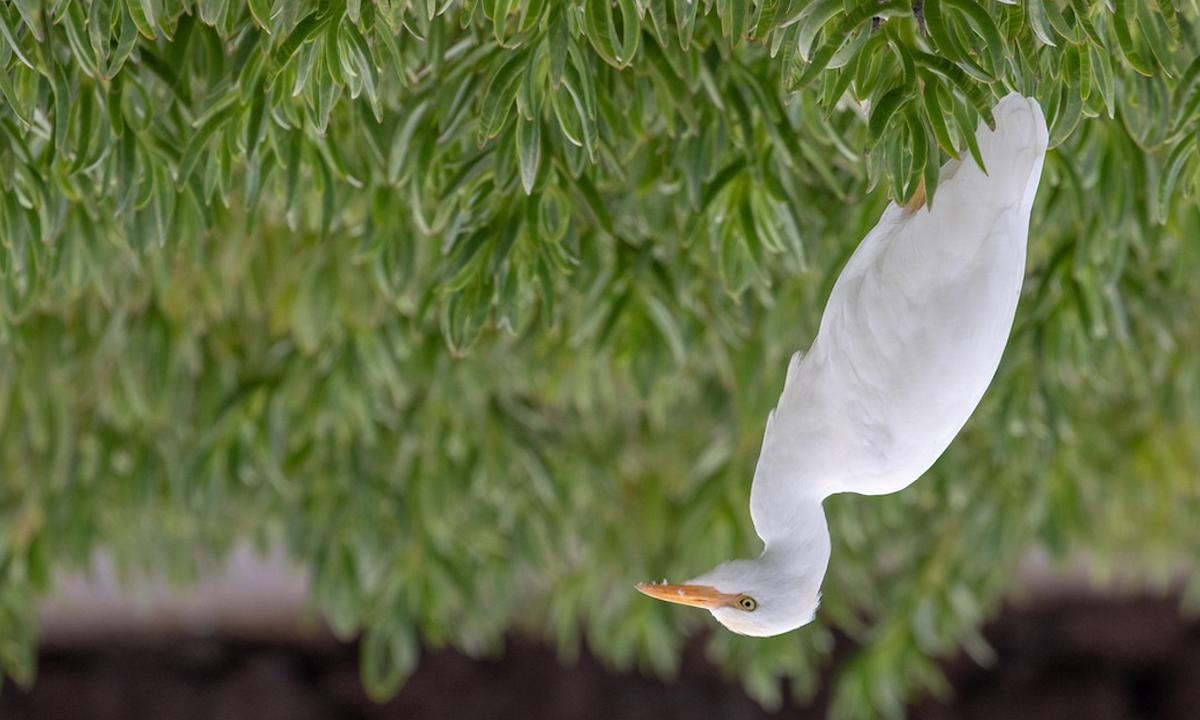egret: (649, 78, 1100, 643)
